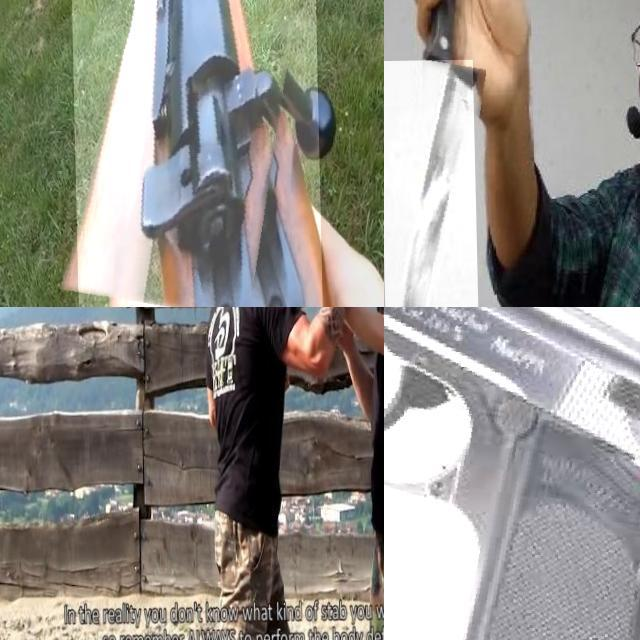-: (384, 60, 476, 307), (323, 307, 384, 350)
gun-knife-thesis - v11 Yolov5 augmented: (384, 307, 640, 640), (65, 0, 319, 307)
